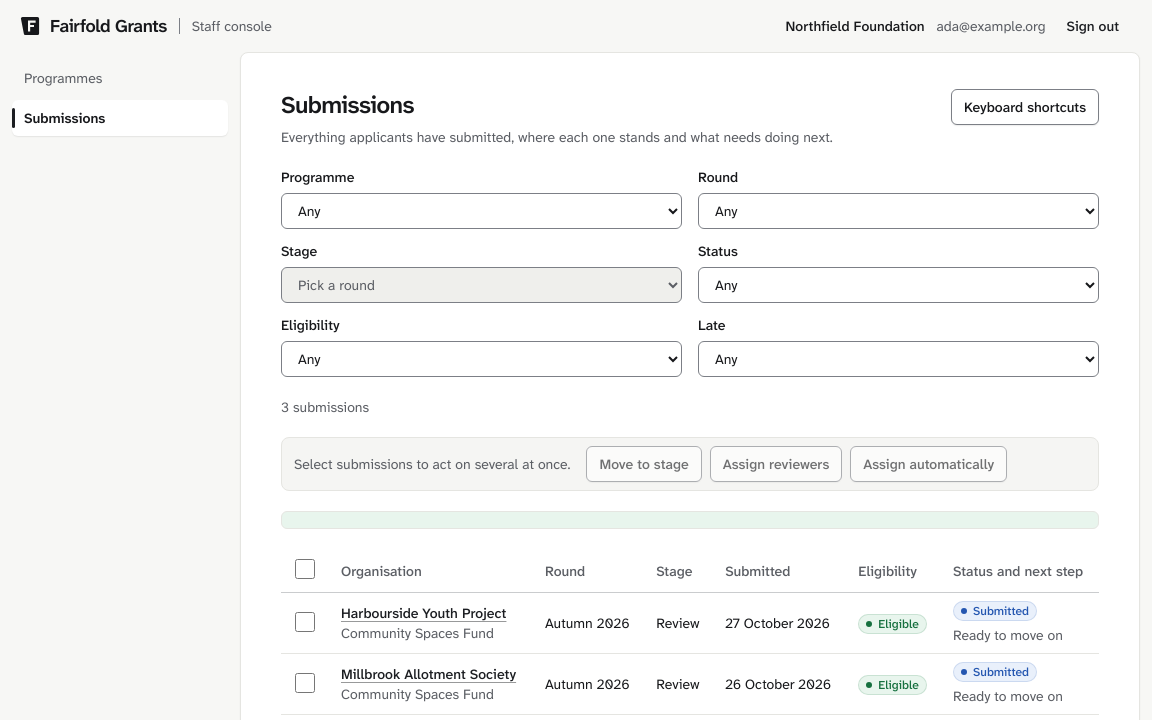
it: assigning from the list › assigns reviewers to the chosen submissions, and says what the button will do
Check: the button "Assign reviewers" is disabled, box [710,446,842,482]
Click the checkbox named "Select Harbourside Youth Project" next to "Harbourside Youth Project". click: (305, 622)
box: [295,612,315,632]
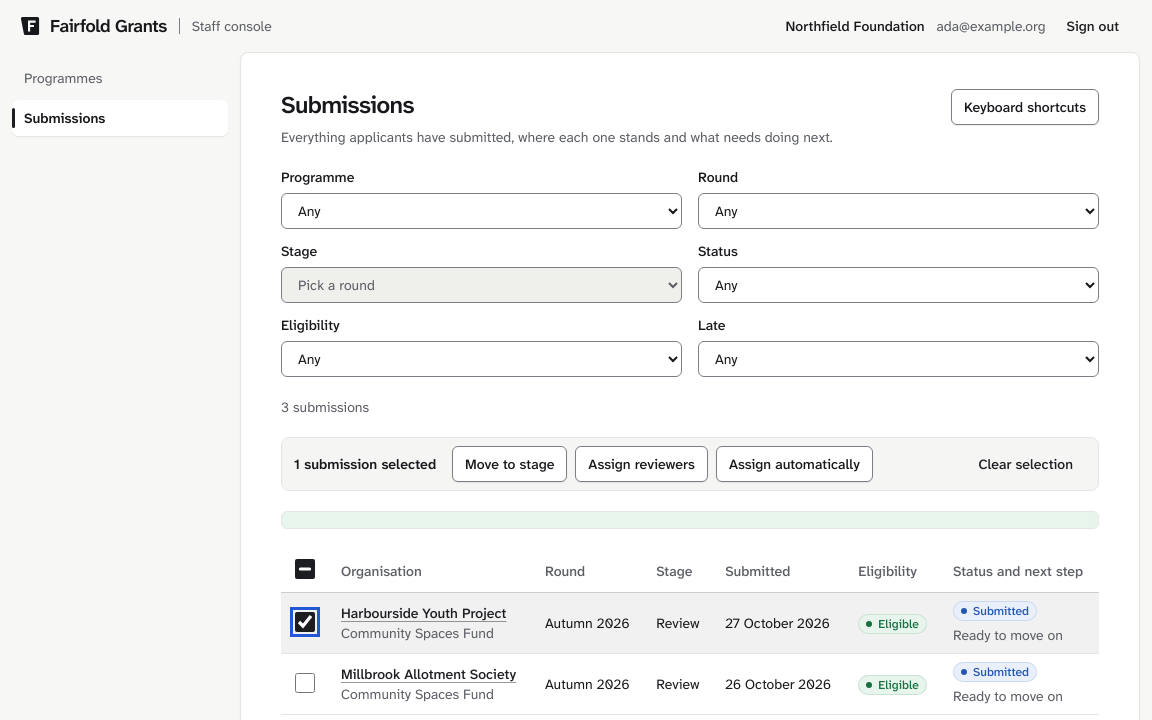
Click the checkbox named "Select Millbrook Allotment Society" next to "Millbrook Allotment Society". click: (305, 682)
box: [295,672,315,692]
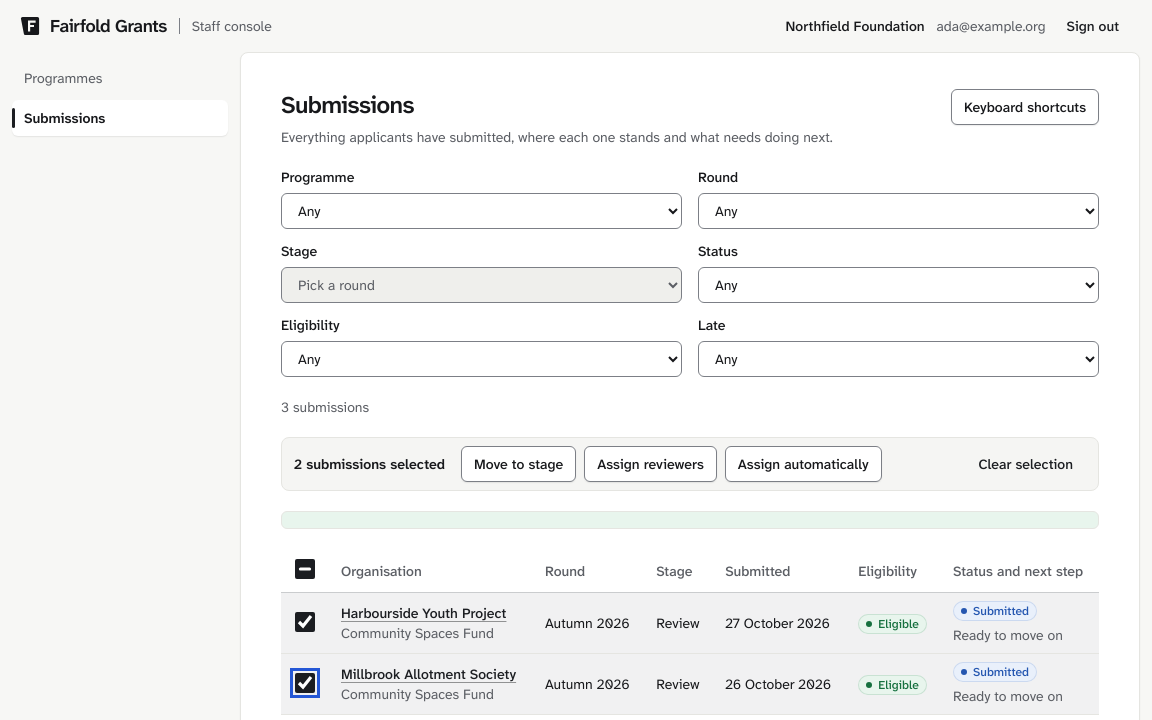
Click the button "Assign reviewers". click: (651, 464)
box: [584,446,717,482]
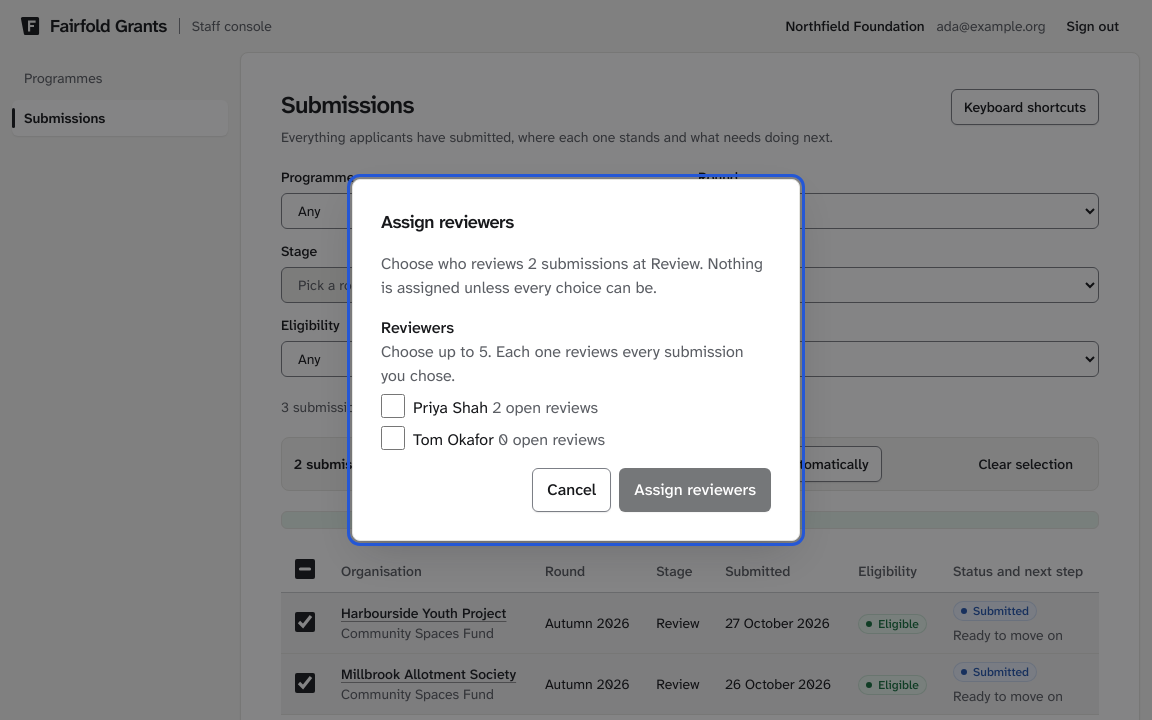
Check: the text "Choose who reviews 2 submissions at Review" is shown, box [381,253,763,298]
Click the checkbox labelled "Priya Shah 2 open reviews". click: (393, 406)
box: [381,394,405,418]
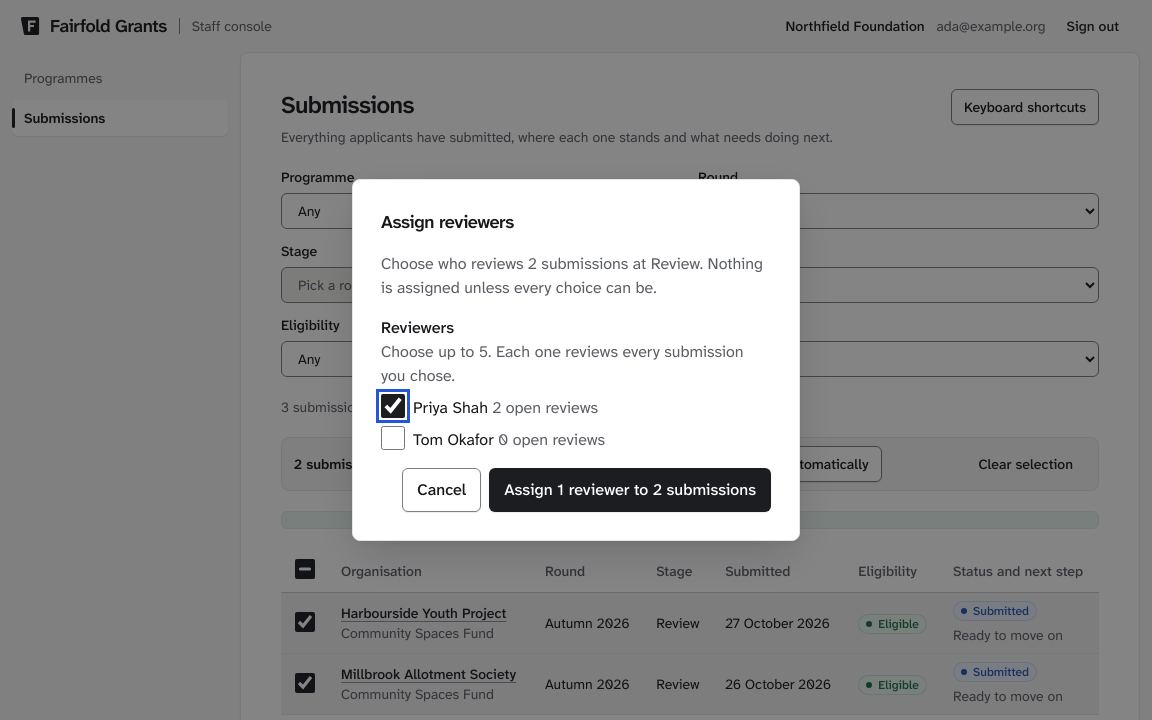
Click the checkbox labelled "Tom Okafor 0 open reviews". click: (393, 438)
box: [381,426,405,450]
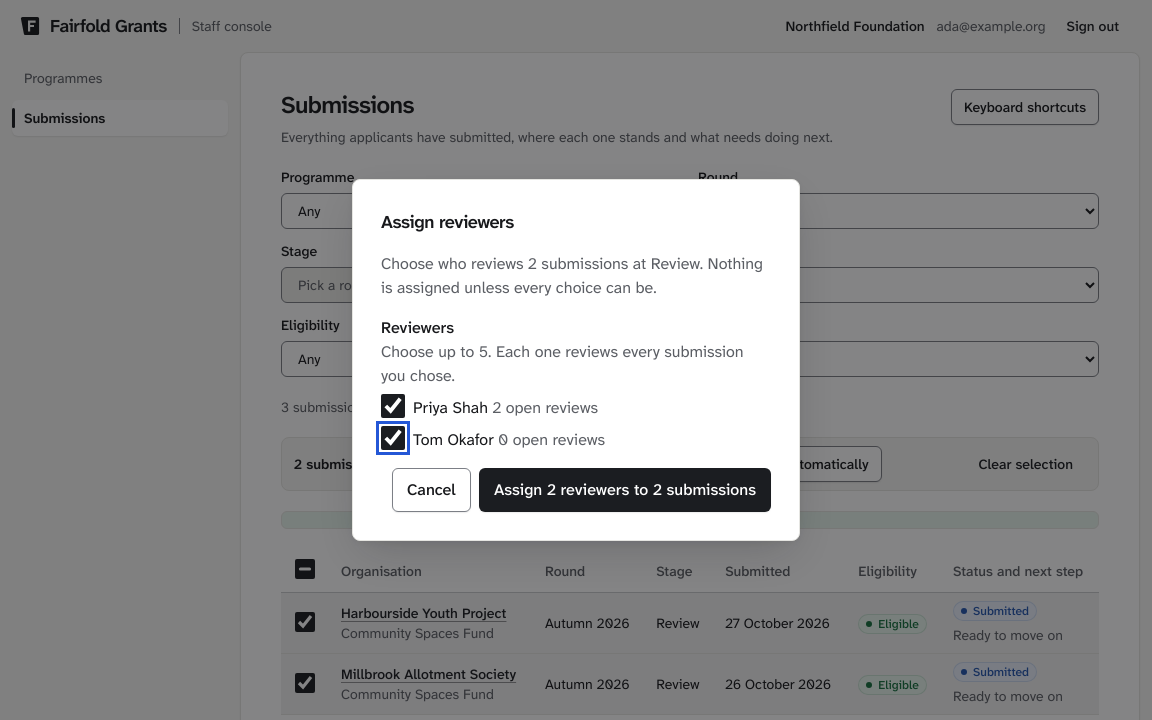
Click the button "Assign 2 reviewers to 2 submissions". click: (625, 490)
box: [479,468,771,512]
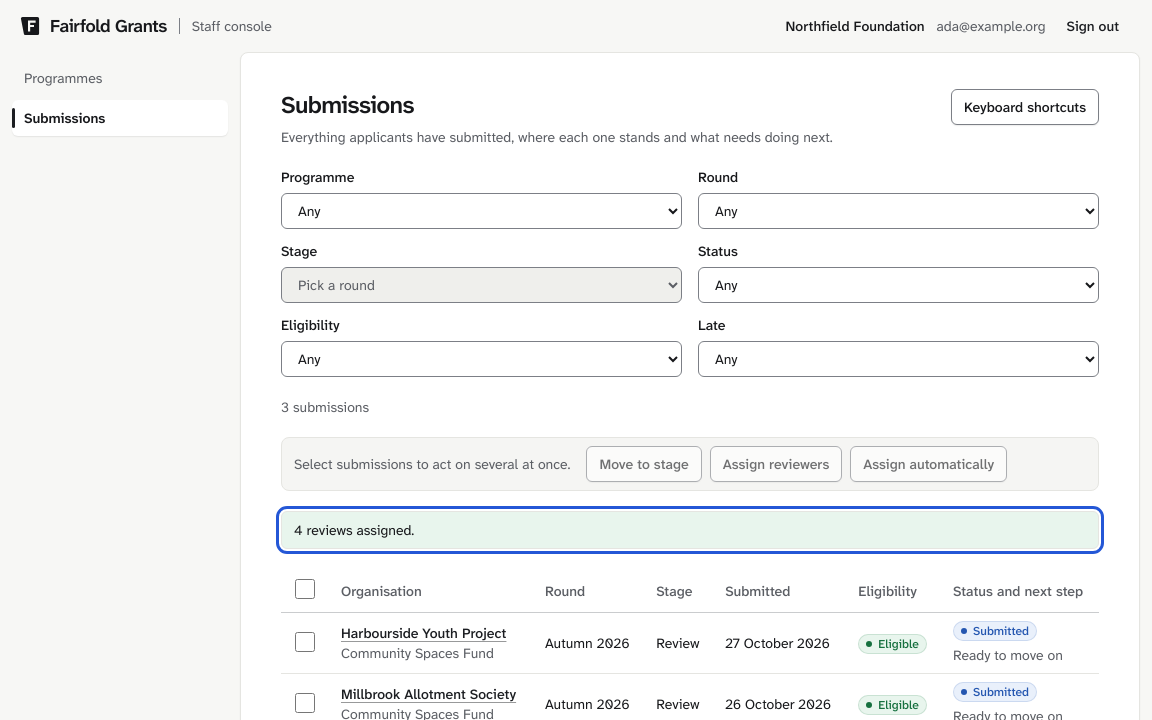
Check: the text "Select submissions to act on several at once." is shown, box [294,454,570,474]
